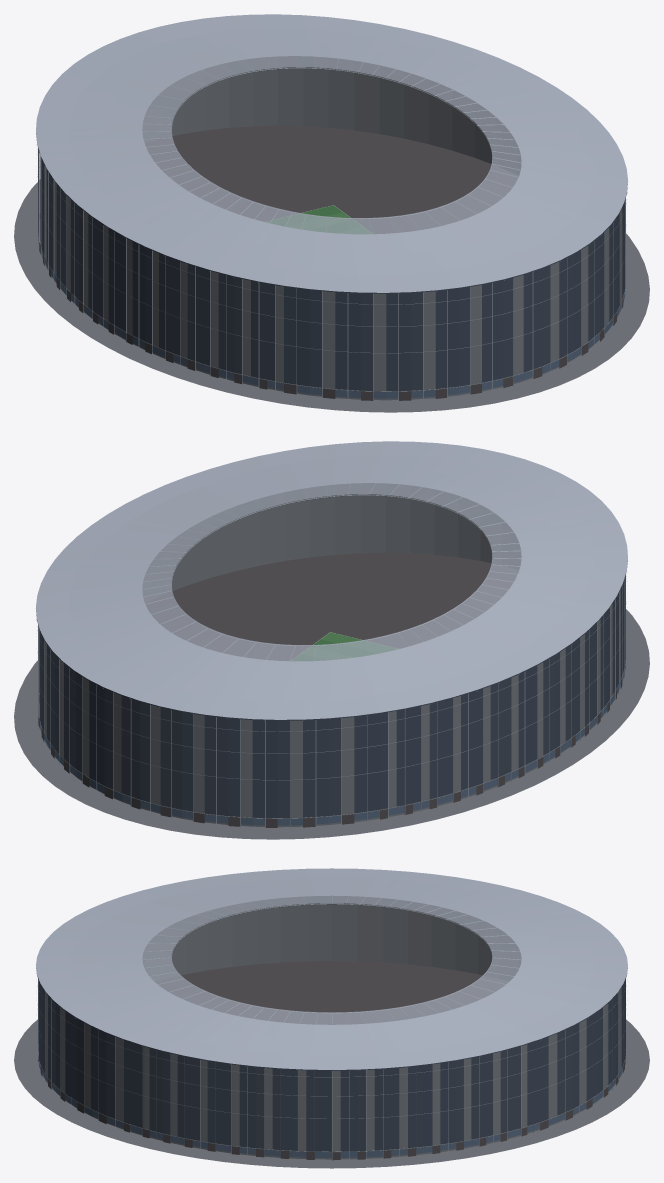
File: shell.glb
3 views of the same model, one above another, from view 1: azimuth 30°, elevation 25°; view 2: azimuth 150°, elevation 25°; view 3: azimuth 270°, elevation 25° (orthographic). The views are drawn at different scales.
Visible parts, largest first — view 1: shell_roof_canopy, shell_bowl_mass_cladding, shell_bowl_mass_enclosure, shell_field_floor, shell_roof_canopy_eaves, shell_field_floor_walk, shell_bowl_mass_facade_panels, shell_bowl_mass_suite_glass, shell_bowl_mass_plinth, shell_vomitories_exterior, shell_roof_truss, shell_bowl_mass_panel_bands (+3 smaller); view 2: shell_roof_canopy, shell_bowl_mass_cladding, shell_bowl_mass_enclosure, shell_field_floor, shell_roof_canopy_eaves, shell_field_floor_walk, shell_bowl_mass_facade_panels, shell_bowl_mass_suite_glass, shell_bowl_mass_plinth, shell_vomitories_exterior, shell_roof_truss, shell_bowl_mass_panel_bands (+3 smaller); view 3: shell_roof_canopy, shell_bowl_mass_cladding, shell_bowl_mass_enclosure, shell_field_floor, shell_roof_canopy_eaves, shell_field_floor_walk, shell_bowl_mass_facade_panels, shell_bowl_mass_suite_glass, shell_bowl_mass_plinth, shell_vomitories_exterior, shell_bowl_mass_panel_bands, shell_roof_truss (+1 smaller).
Boxes of the visible parts, left/top/right/bottom form: shell_roof_canopy: left=36, top=14, right=627, bottom=292; shell_bowl_mass_cladding: left=38, top=149, right=625, bottom=391; shell_bowl_mass_enclosure: left=40, top=56, right=622, bottom=397; shell_field_floor: left=145, top=125, right=518, bottom=233; shell_roof_canopy_eaves: left=142, top=56, right=521, bottom=234; shell_field_floor_walk: left=14, top=179, right=649, bottom=412; shell_bowl_mass_facade_panels: left=38, top=148, right=625, bottom=400; shell_bowl_mass_suite_glass: left=38, top=213, right=625, bottom=398; shell_bowl_mass_plinth: left=40, top=123, right=622, bottom=400; shell_vomitories_exterior: left=39, top=242, right=623, bottom=400; shell_roof_truss: left=46, top=57, right=601, bottom=293; shell_bowl_mass_panel_bands: left=37, top=149, right=626, bottom=353; shell_roof_canopy: left=36, top=441, right=627, bottom=719; shell_bowl_mass_cladding: left=39, top=576, right=625, bottom=818; shell_bowl_mass_enclosure: left=44, top=483, right=620, bottom=824; shell_field_floor: left=145, top=552, right=518, bottom=660; shell_roof_canopy_eaves: left=142, top=483, right=521, bottom=661; shell_field_floor_walk: left=14, top=609, right=649, bottom=839; shell_bowl_mass_facade_panels: left=38, top=575, right=625, bottom=827; shell_bowl_mass_suite_glass: left=39, top=662, right=625, bottom=825; shell_bowl_mass_plinth: left=42, top=550, right=620, bottom=827; shell_vomitories_exterior: left=38, top=677, right=622, bottom=827; shell_roof_truss: left=62, top=484, right=617, bottom=720; shell_bowl_mass_panel_bands: left=37, top=576, right=626, bottom=780; shell_roof_canopy: left=36, top=868, right=627, bottom=1069; shell_bowl_mass_cladding: left=38, top=978, right=625, bottom=1151; shell_bowl_mass_enclosure: left=42, top=896, right=621, bottom=1157; shell_field_floor: left=155, top=961, right=508, bottom=1024; shell_roof_canopy_eaves: left=142, top=895, right=521, bottom=1024; shell_field_floor_walk: left=14, top=1019, right=649, bottom=1168; shell_bowl_mass_facade_panels: left=38, top=979, right=625, bottom=1159; shell_bowl_mass_suite_glass: left=38, top=1046, right=625, bottom=1157; shell_bowl_mass_plinth: left=42, top=959, right=622, bottom=1159; shell_vomitories_exterior: left=38, top=1051, right=625, bottom=1160; shell_bowl_mass_panel_bands: left=37, top=985, right=626, bottom=1118; shell_roof_truss: left=46, top=898, right=617, bottom=1070.
Bounding box in the file's own units: 266 × 59.67 × 330.
